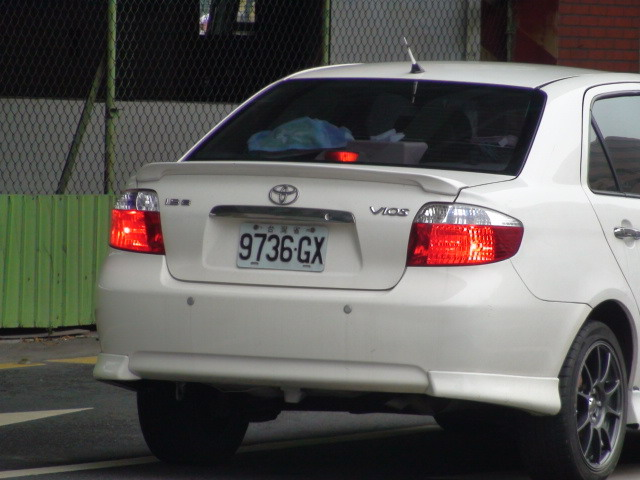plate: (234, 220, 330, 271)
